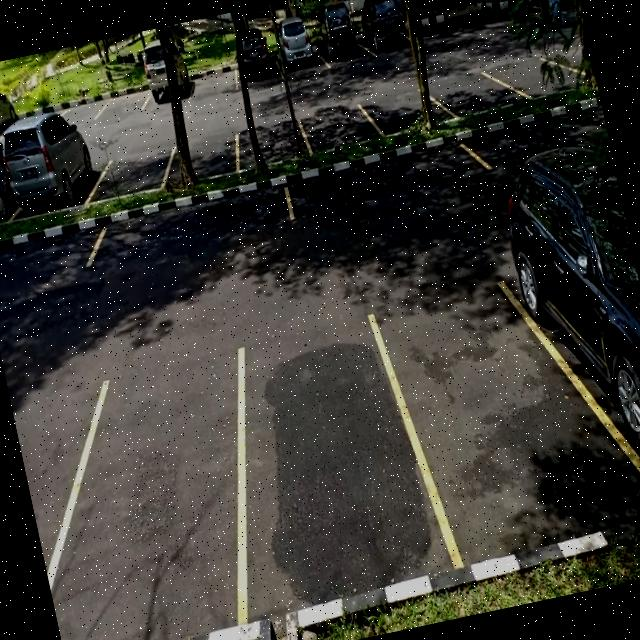empty: (206, 306, 442, 616), (378, 270, 610, 574), (16, 357, 263, 640), (271, 112, 484, 214), (79, 172, 298, 269), (83, 139, 168, 200), (290, 86, 370, 146), (358, 70, 437, 128), (224, 106, 302, 164), (426, 52, 504, 110), (158, 125, 236, 182), (90, 76, 149, 120), (184, 52, 240, 98)
occupied: (529, 157, 640, 518), (0, 116, 100, 218), (132, 38, 194, 107), (225, 26, 283, 90), (313, 0, 366, 69), (270, 17, 328, 80)
